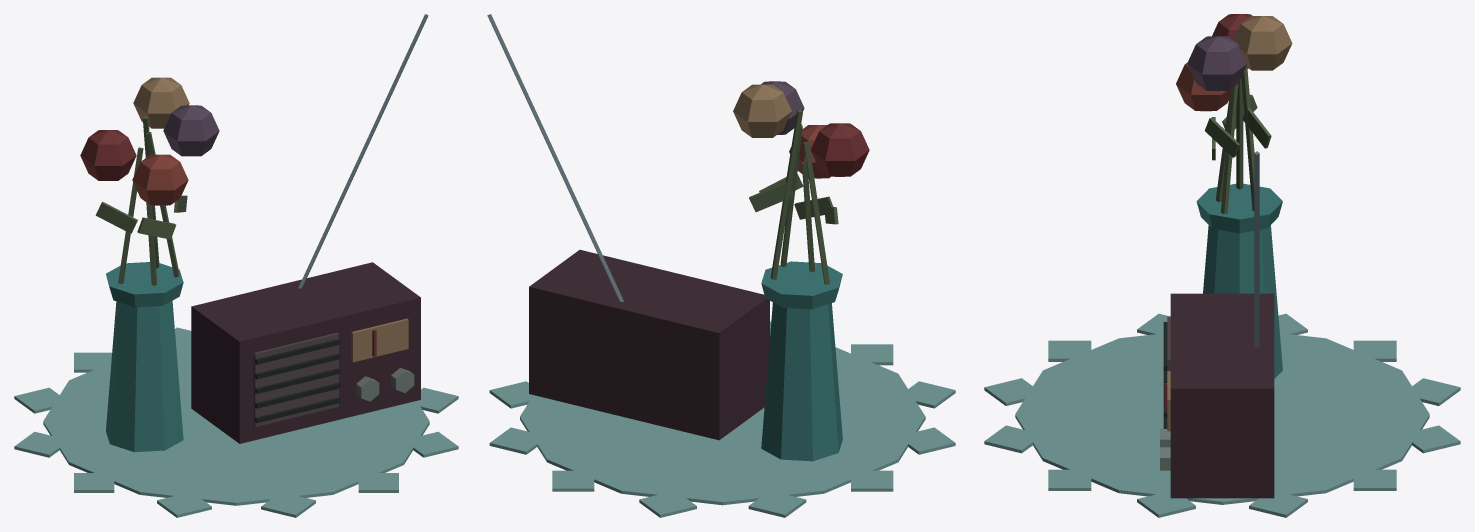
Rendered from deasupra_frigiderului.glb.
3 renders of one model, left to right at view 1: azimuth 30°, elevation 25°; view 2: azimuth 150°, elevation 25°; view 3: azimuth 270°, elevation 25°, orthographic. The views are drawn at different scales.
Parts seen in each view (by area): view 1: DeasupraFrigiderului; view 2: DeasupraFrigiderului; view 3: DeasupraFrigiderului.
Boxes of the visible parts, x1,y1,x2,y2 form: DeasupraFrigiderului: (14, 14, 458, 517); DeasupraFrigiderului: (487, 14, 955, 517); DeasupraFrigiderului: (984, 14, 1460, 517).
Size of the model in its own units: 0.5742 by 0.477 by 0.5513.
